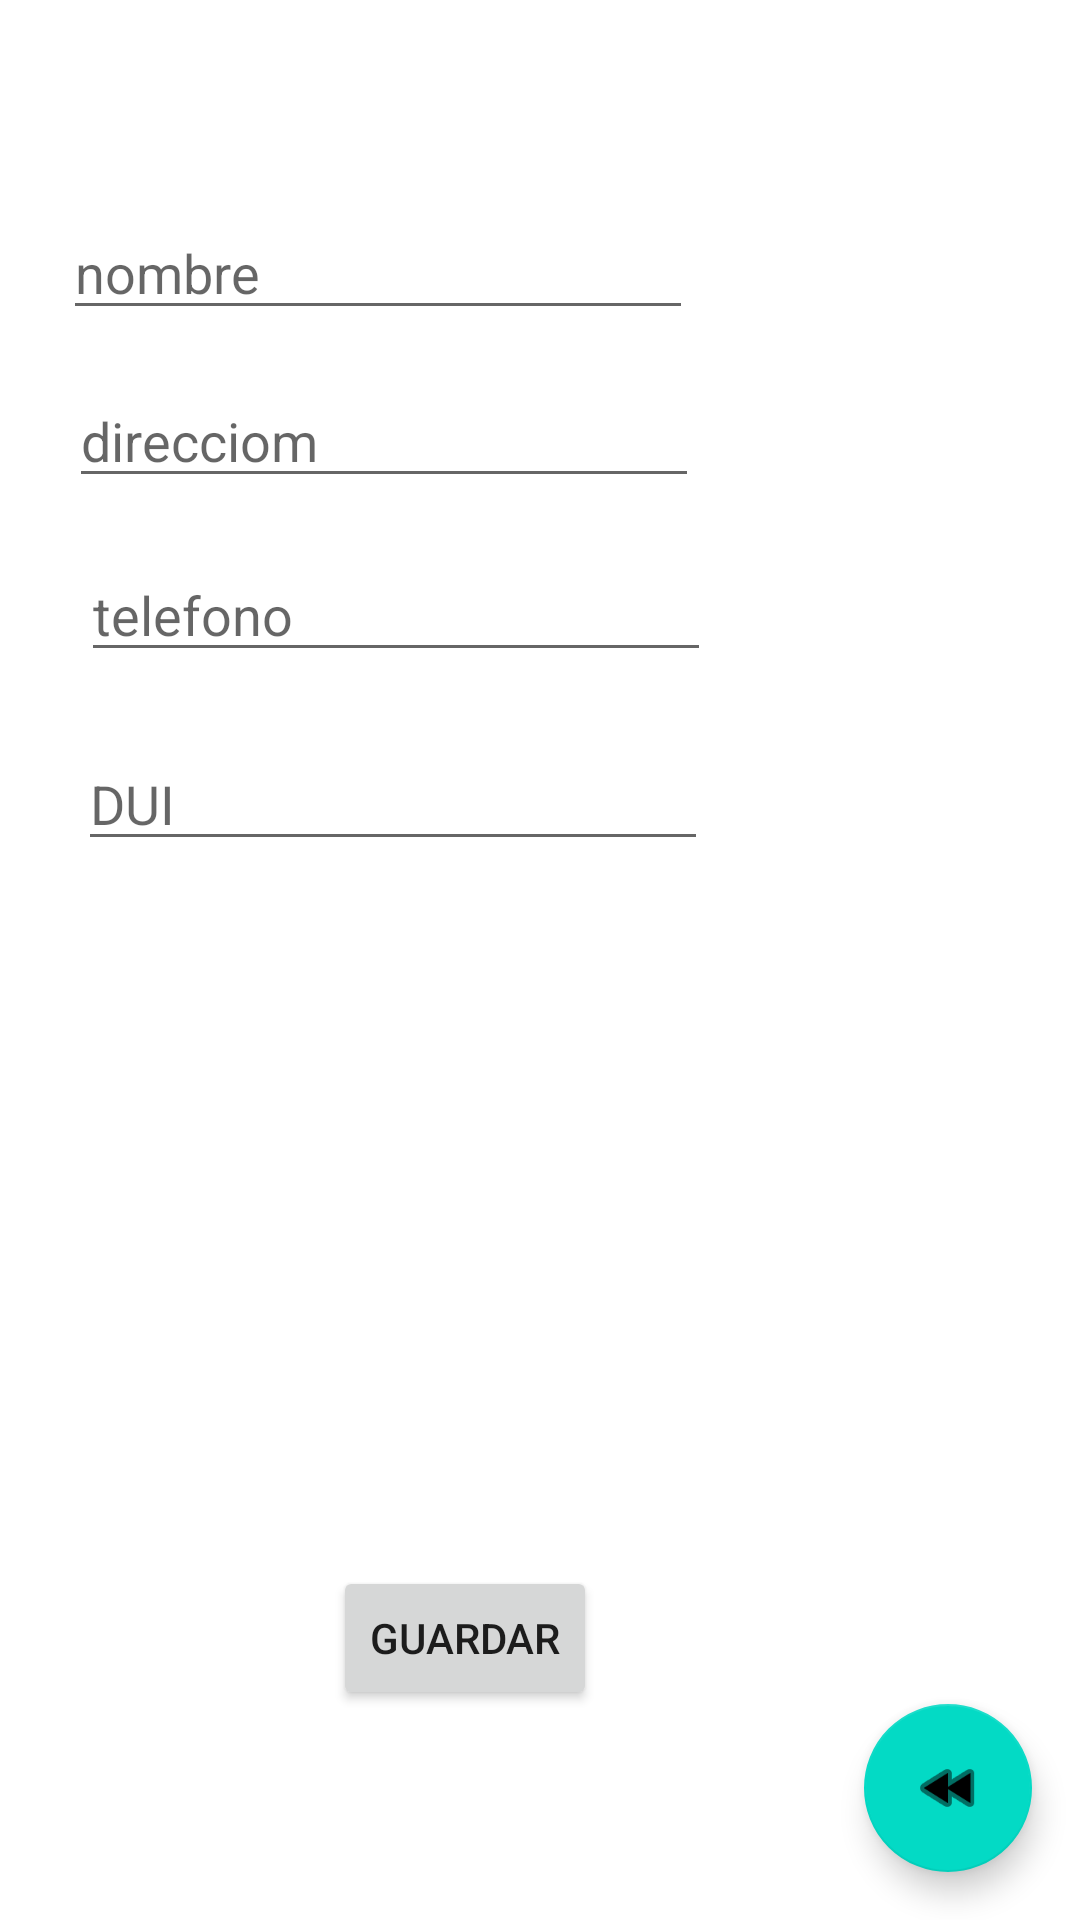

Screen size 1080*1920. Icon name, then its center in pixels as (x=x, y=y):
rew: (x=948, y=1788)
